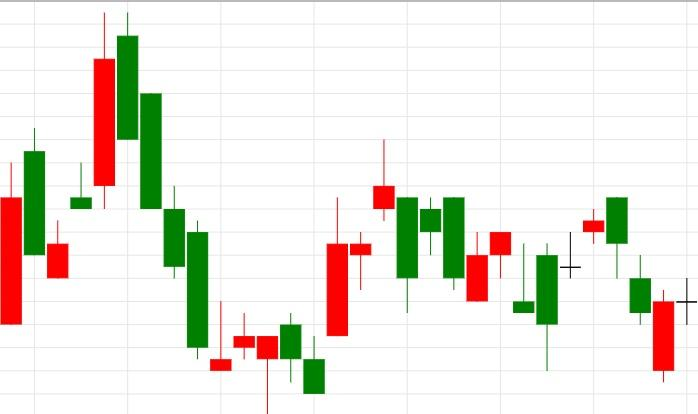bearish_engulfing_fall: (536, 197, 629, 372)
hanging_man_fall: (209, 301, 279, 414)
shooting_star_fall: (302, 140, 395, 395)
